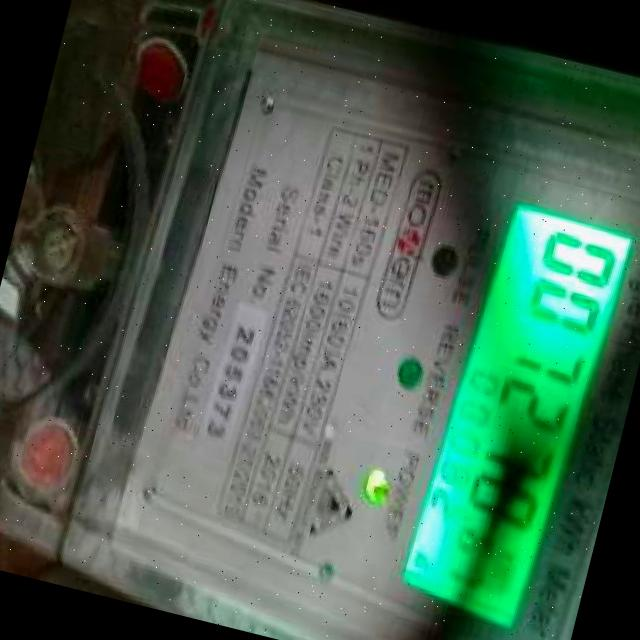LCD: (376, 182, 640, 635)
